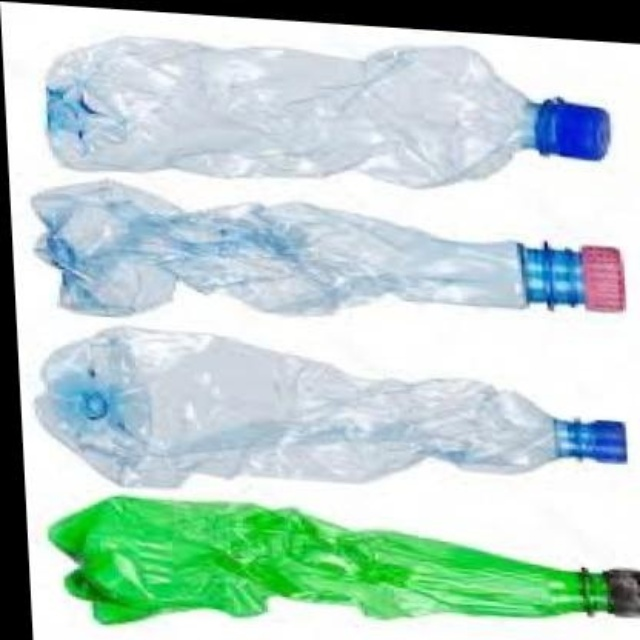trash: (37, 326, 552, 485), (32, 180, 623, 314), (46, 37, 528, 186), (49, 497, 608, 622)
